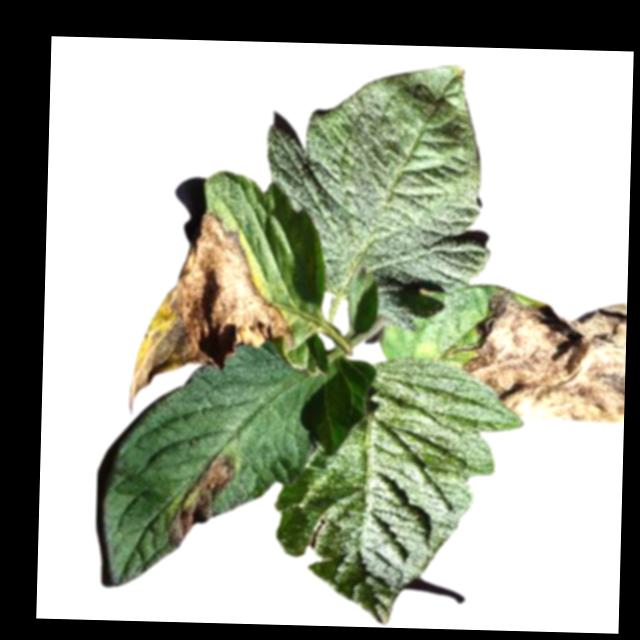Late_blight: (129, 207, 299, 417), (462, 284, 627, 428), (169, 455, 234, 548)
